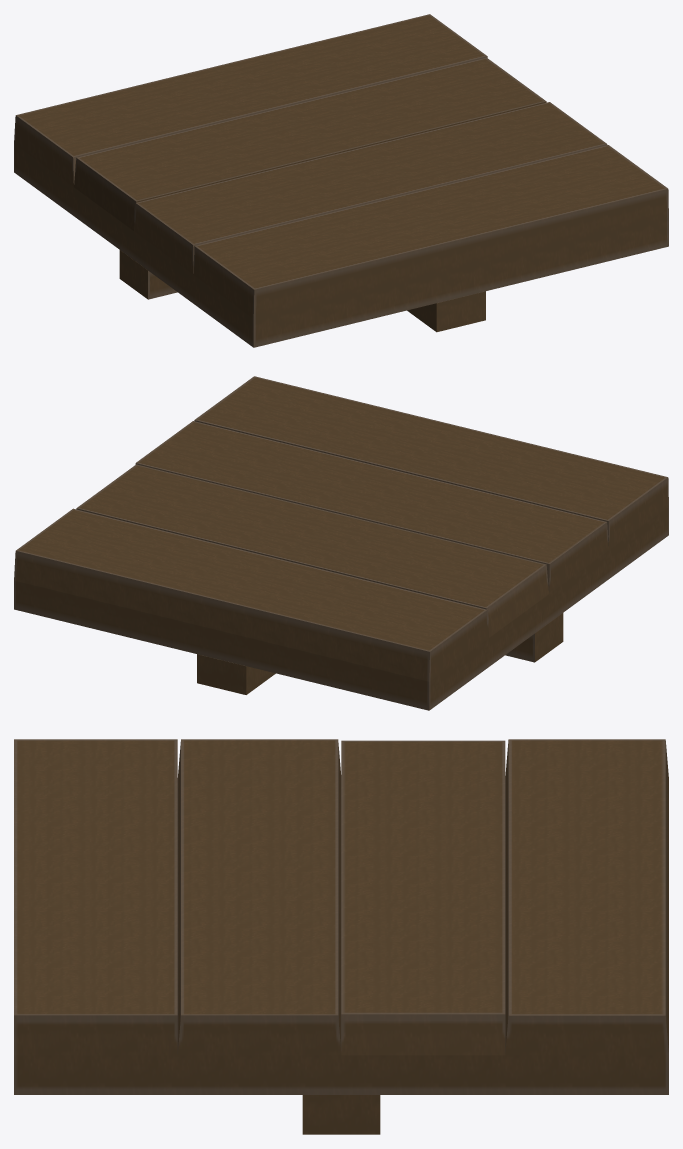
The model's file is StairPlatformPiece.fbx.
3 views of the same model, one above another, from view 1: azimuth 30°, elevation 25°; view 2: azimuth 150°, elevation 25°; view 3: azimuth 270°, elevation 25° (orthographic). The views are drawn at different scales.
Visible parts, largest first — view 1: StairPlatformPiece; view 2: StairPlatformPiece; view 3: StairPlatformPiece.
Part boxes in pixels (left/top/right/bottom): StairPlatformPiece: left=14, top=14, right=668, bottom=347; StairPlatformPiece: left=14, top=376, right=668, bottom=710; StairPlatformPiece: left=14, top=739, right=668, bottom=1134.
Size of the model in its own units: 158 by 31.69 by 158.
